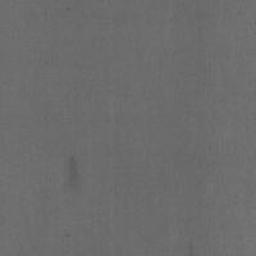Inclusion: (69, 156, 78, 188)
